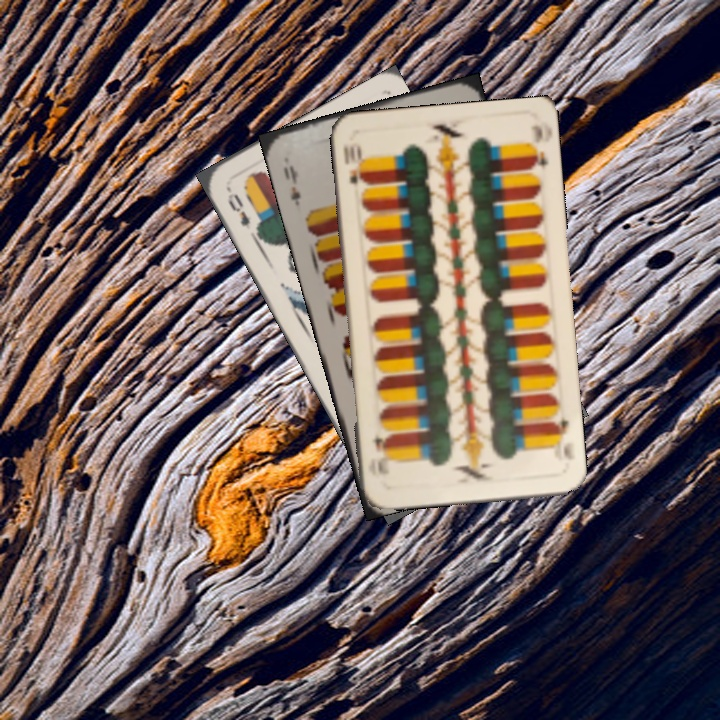E10: (547, 412, 577, 462), (339, 138, 368, 187)
E9: (279, 161, 304, 209)
EO: (223, 184, 262, 236)
